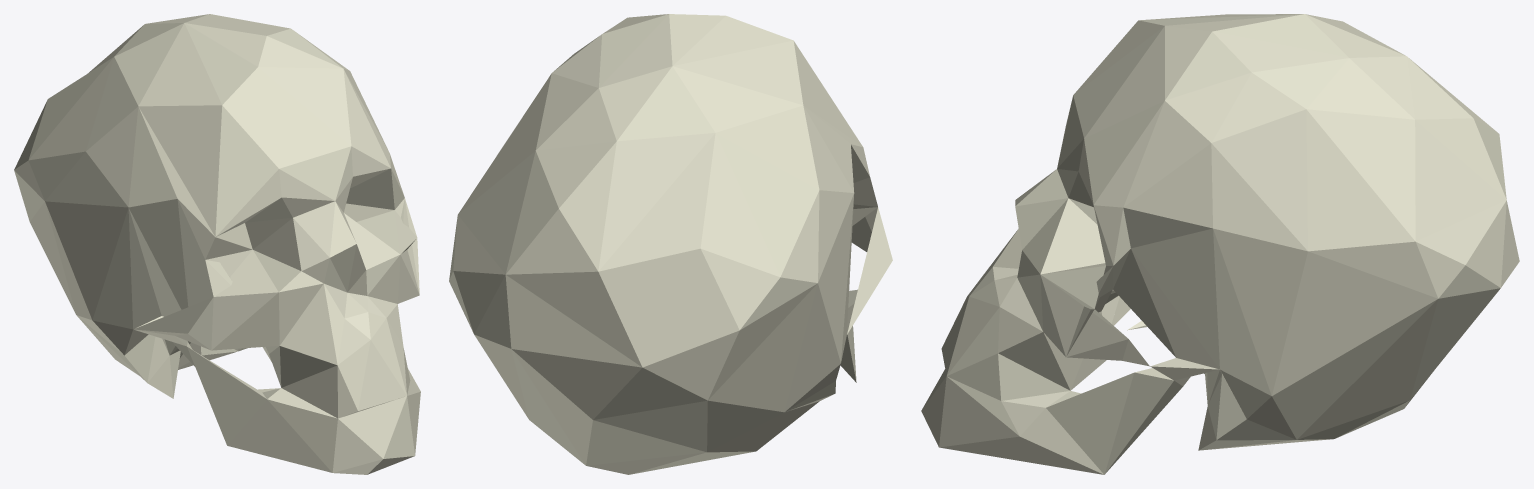
Rendered from RG-Dungeon_Skull.fbx.
3 renders of one model, left to right at view 1: azimuth 30°, elevation 25°; view 2: azimuth 150°, elevation 25°; view 3: azimuth 270°, elevation 25°, orthographic. The views are drawn at different scales.
Parts seen in each view (by area): view 1: RG-Dungeon_Skull; view 2: RG-Dungeon_Skull; view 3: RG-Dungeon_Skull.
Part boxes in pixels (<box>): RG-Dungeon_Skull: <box>14,14,420,474</box>; RG-Dungeon_Skull: <box>449,14,892,474</box>; RG-Dungeon_Skull: <box>921,14,1519,474</box>.
Size of the model in its own units: 1.09 by 1.24 by 1.68.
